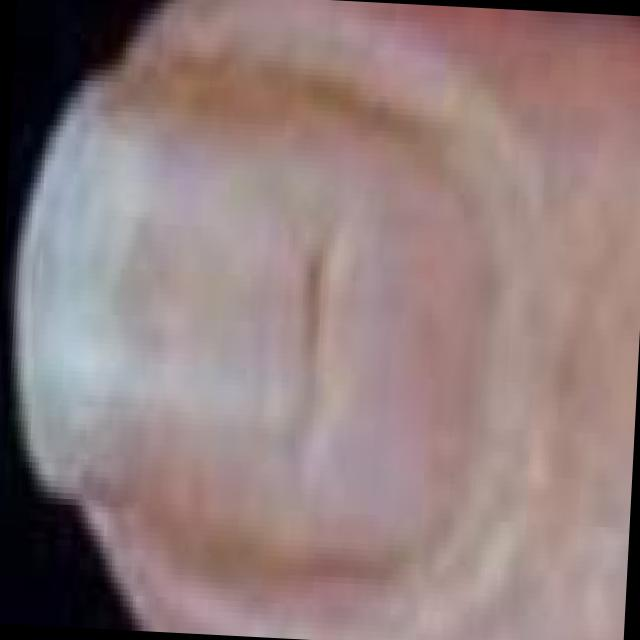Nail: (15, 66, 489, 566)
